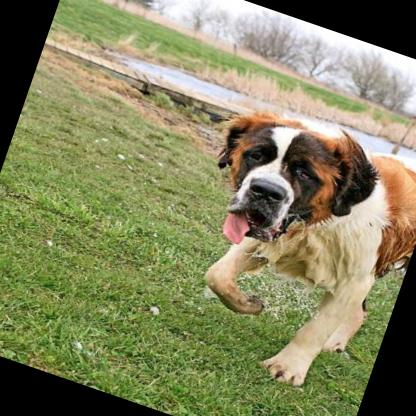Saint_Bernard: (135, 82, 416, 412)
